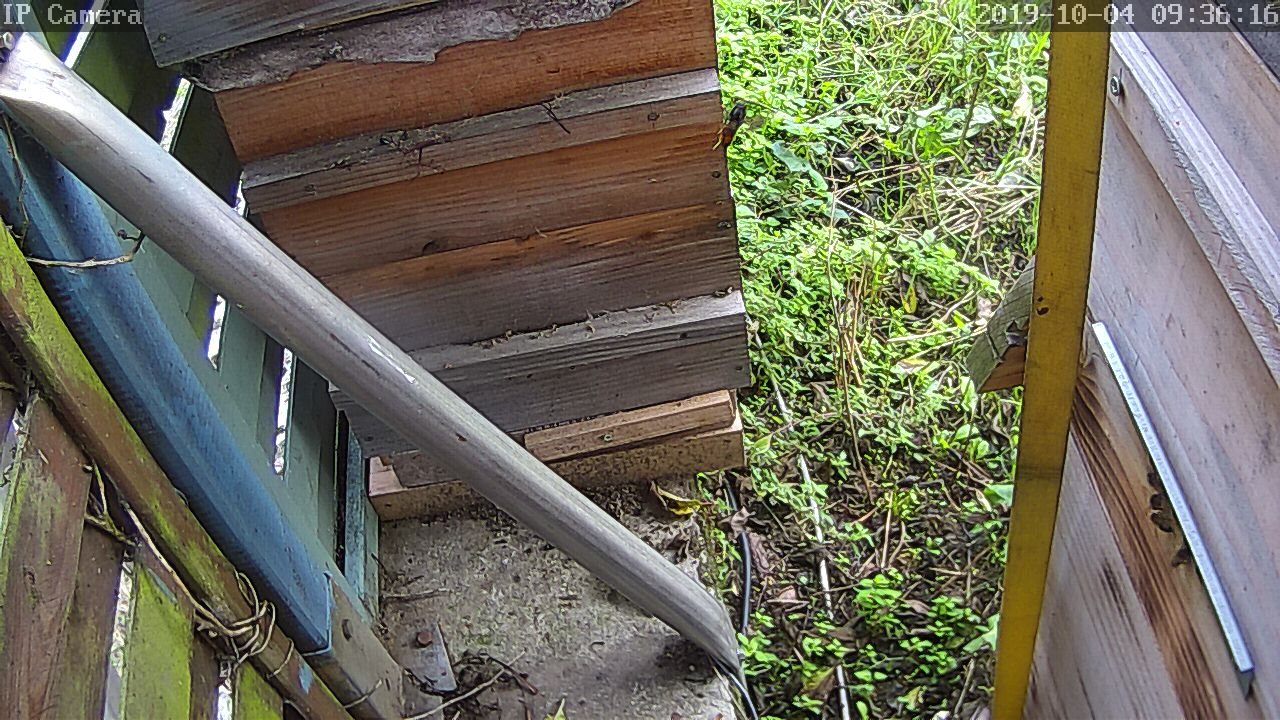bee: (1138, 480, 1174, 526), (1164, 539, 1203, 574)
hornet: (711, 94, 757, 157)
